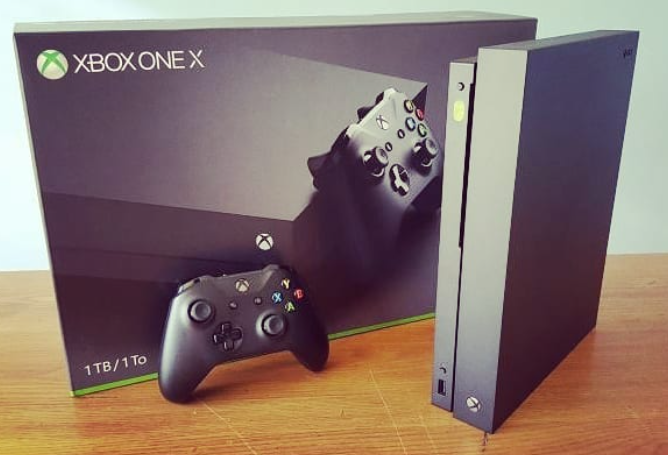gamingconsole: (162, 265, 333, 396)
